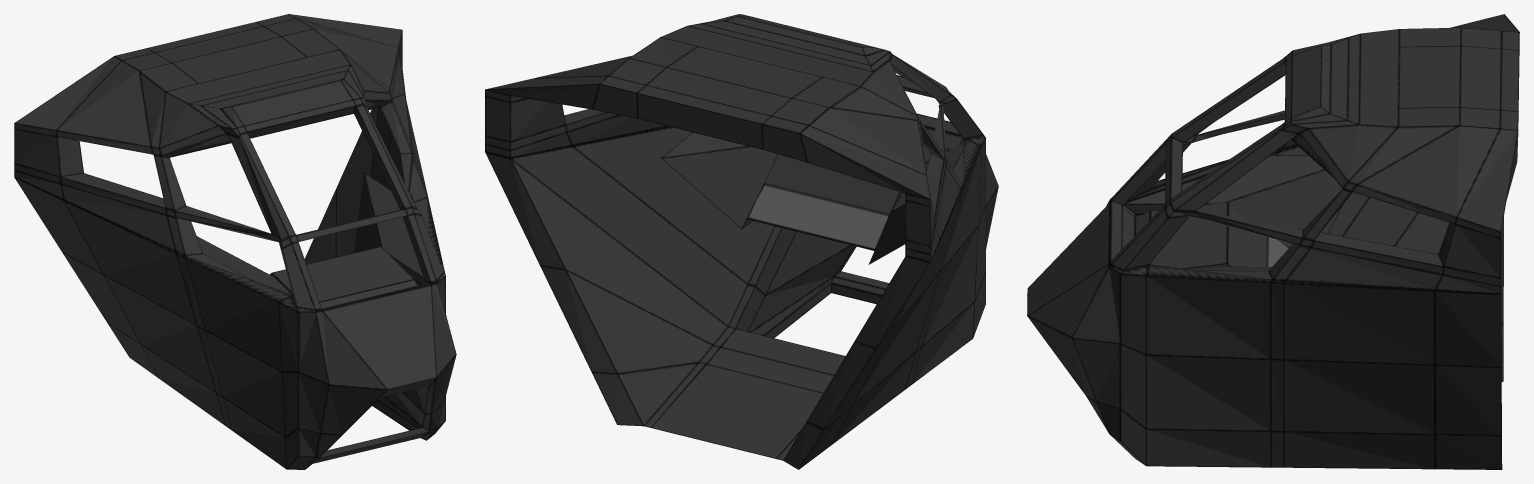
The model's file is cockpitMk3c.obj.
3 views of the same model, side by side, from view 1: azimuth 30°, elevation 25°; view 2: azimuth 150°, elevation 25°; view 3: azimuth 270°, elevation 25° (orthographic). The views are drawn at different scales.
Parts seen in each view (by area): view 1: Cube; view 2: Cube; view 3: Cube.
Part boxes in pixels (x1,y1,x2,y2): Cube: (14, 14, 456, 469); Cube: (485, 14, 998, 469); Cube: (1027, 14, 1519, 469).
Size of the model in its own units: 4.88 by 3.64 by 4.66.
